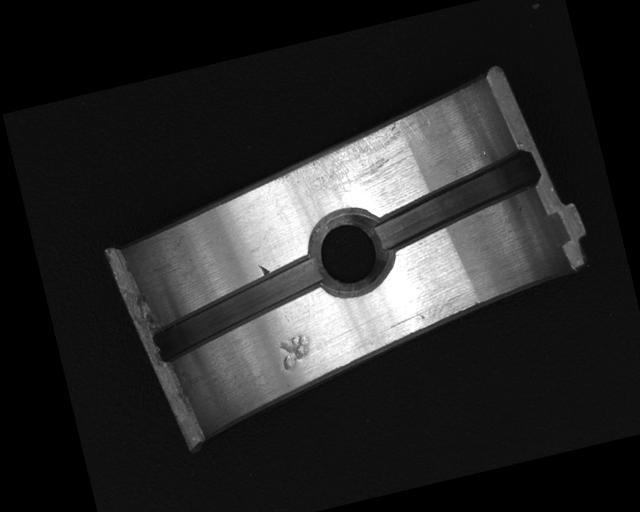bruise: (274, 331, 317, 373), (256, 261, 271, 277)
gap: (140, 254, 332, 362), (366, 148, 549, 255)
hole: (302, 203, 399, 302)
scratch: (274, 105, 444, 215)
